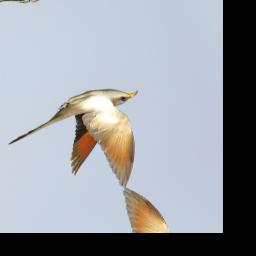Cuckoo: (2, 73, 167, 224)
